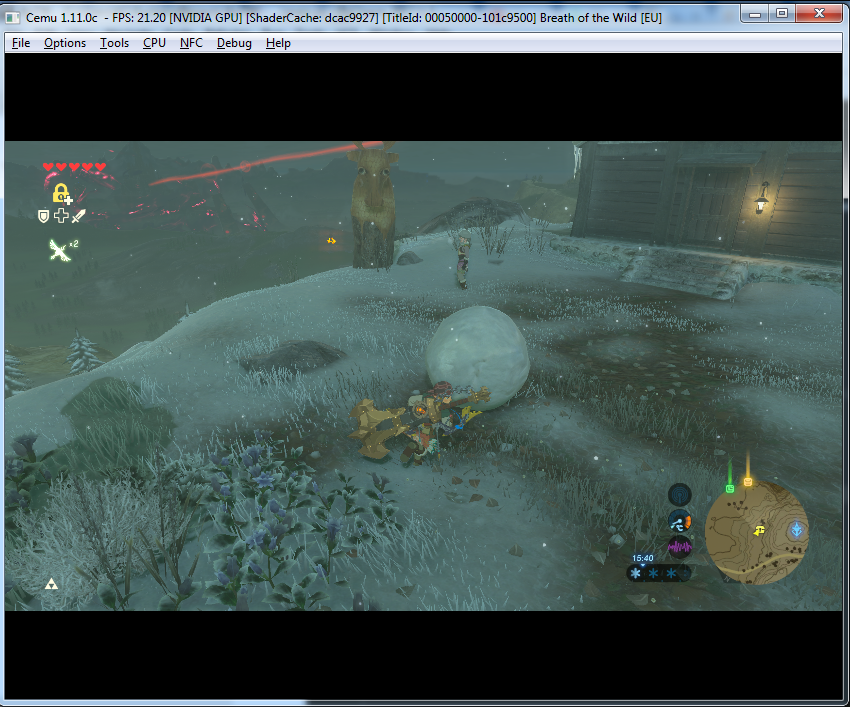dude: (450, 222, 475, 295)
link: (348, 377, 497, 469)
snowball: (420, 303, 535, 410)
totem: (343, 136, 400, 269)
